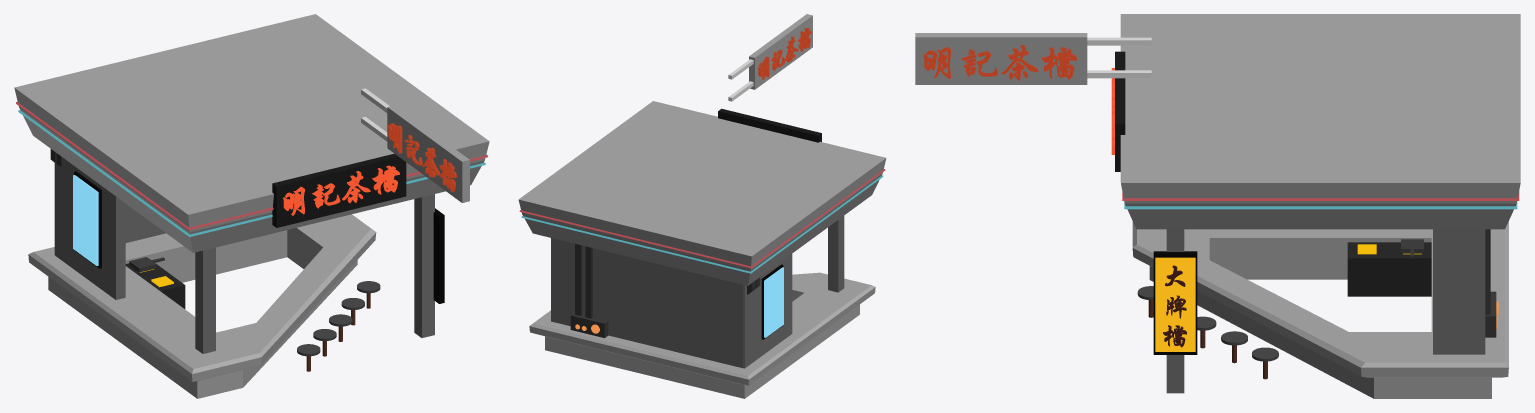
3 renders of one model, left to right at view 1: azimuth 30°, elevation 25°; view 2: azimuth 150°, elevation 25°; view 3: azimuth 270°, elevation 25°, orthographic. The views are drawn at different scales.
Parts seen in each view (by area): view 1: Top, Table, Floor, Wall 2, Sign, Sign.001, Stand.001, Stand, Light Poster, Text, DPD backboard, Light Ring 2 (+4 smaller); view 2: Top, Wall, Table, Floor, Wall 2, Sign.001, Stand, Light Poster, Sign, Light Ring 2, Light Ring, Cube.006 (+2 smaller); view 3: Top, Table, Sign.001, Floor, Wall 2.001, Cube.001, DPD board, Light Ring 2, Light Ring, Stand.001, Sign, DPD backboard (+3 smaller).
Boxes of the visible parts, bbox=[...] form: Top: bbox=[14, 14, 489, 252]; Table: bbox=[28, 214, 376, 381]; Floor: bbox=[48, 230, 357, 398]; Wall 2: bbox=[54, 161, 125, 299]; Sign: bbox=[272, 153, 406, 227]; Sign.001: bbox=[387, 105, 469, 202]; Stand.001: bbox=[414, 194, 434, 337]; Stand: bbox=[195, 247, 215, 353]; Light Poster: bbox=[73, 175, 98, 265]; Text: bbox=[283, 165, 399, 215]; DPD backboard: bbox=[433, 208, 444, 303]; Light Ring 2: bbox=[18, 110, 485, 236]; Top: bbox=[518, 101, 886, 285]; Wall: bbox=[551, 238, 743, 368]; Table: bbox=[529, 272, 875, 385]; Floor: bbox=[545, 300, 859, 398]; Wall 2: bbox=[743, 254, 792, 368]; Sign.001: bbox=[749, 14, 812, 89]; Stand: bbox=[828, 216, 844, 292]; Light Poster: bbox=[764, 267, 783, 337]; Sign: bbox=[718, 108, 821, 142]; Light Ring 2: bbox=[521, 175, 883, 273]; Light Ring: bbox=[519, 169, 885, 268]; Cube.006: bbox=[570, 312, 608, 338]; Top: bbox=[1120, 14, 1520, 229]; Table: bbox=[1132, 221, 1508, 377]; Sign.001: bbox=[915, 33, 1087, 84]; Floor: bbox=[1149, 250, 1491, 398]; Wall 2.001: bbox=[1433, 229, 1484, 354]; Cube.001: bbox=[1347, 242, 1431, 296]; DPD board: bbox=[1155, 257, 1195, 351]; Light Ring 2: bbox=[1124, 201, 1517, 209]; Light Ring: bbox=[1122, 191, 1519, 200]; Stand.001: bbox=[1166, 229, 1184, 393]; Sign: bbox=[1115, 51, 1125, 171]; DPD backboard: bbox=[1153, 251, 1197, 354].
Size of the model in its own units: 13.67 by 11.85 by 20.7.
